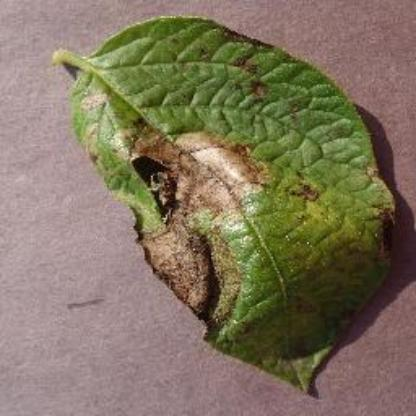Late-Blight: (40, 13, 406, 388)
